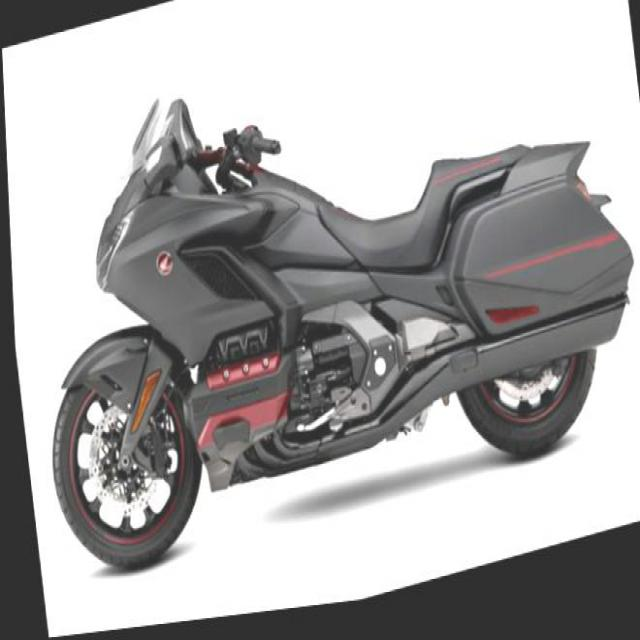Gold Wing: (4, 0, 640, 597)
